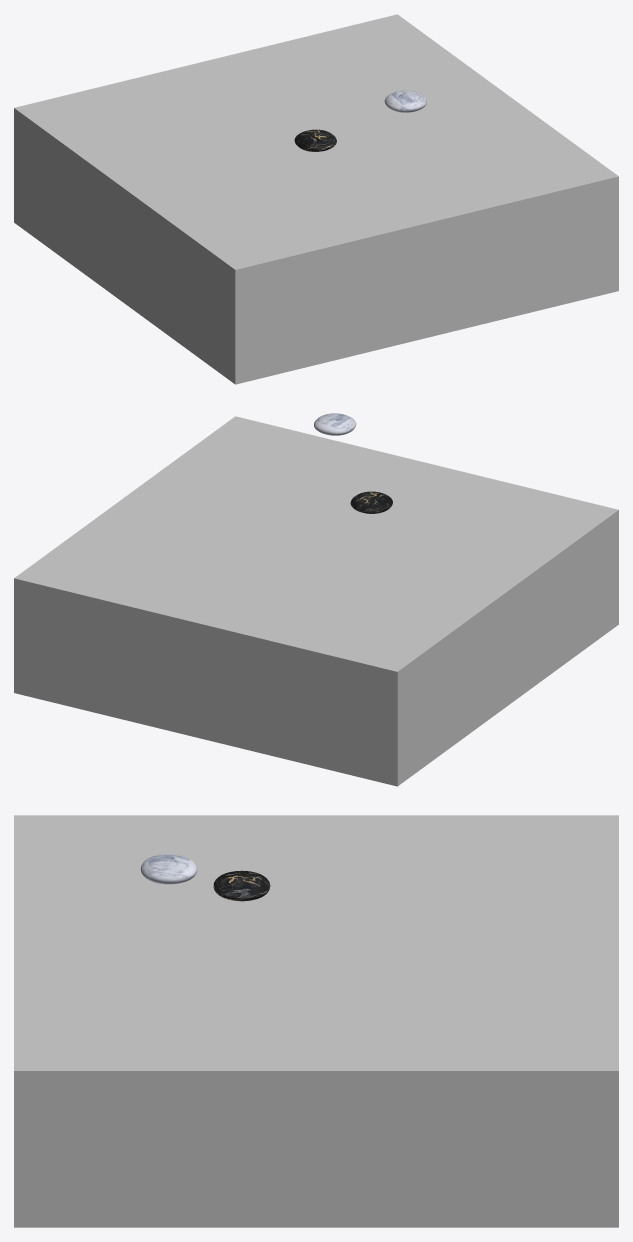
The model's file is go-board.gltf.
3 views of the same model, one above another, from view 1: azimuth 30°, elevation 25°; view 2: azimuth 150°, elevation 25°; view 3: azimuth 270°, elevation 25° (orthographic). The views are drawn at different scales.
Parts seen in each view (by area): view 1: Cube, Cube002, Cube001; view 2: Cube, Cube001, Cube002; view 3: Cube, Cube002, Cube001.
Boxes of the visible parts, left/top/right/bottom form: Cube: left=14, top=14, right=618, bottom=384; Cube002: left=384, top=90, right=426, bottom=112; Cube001: left=294, top=129, right=336, bottom=151; Cube: left=14, top=416, right=618, bottom=786; Cube001: left=350, top=491, right=392, bottom=513; Cube002: left=314, top=413, right=356, bottom=435; Cube: left=14, top=815, right=618, bottom=1227; Cube002: left=140, top=854, right=197, bottom=884; Cube001: left=213, top=870, right=270, bottom=901.
Size of the model in its own units: 7 by 3.36 by 7.
